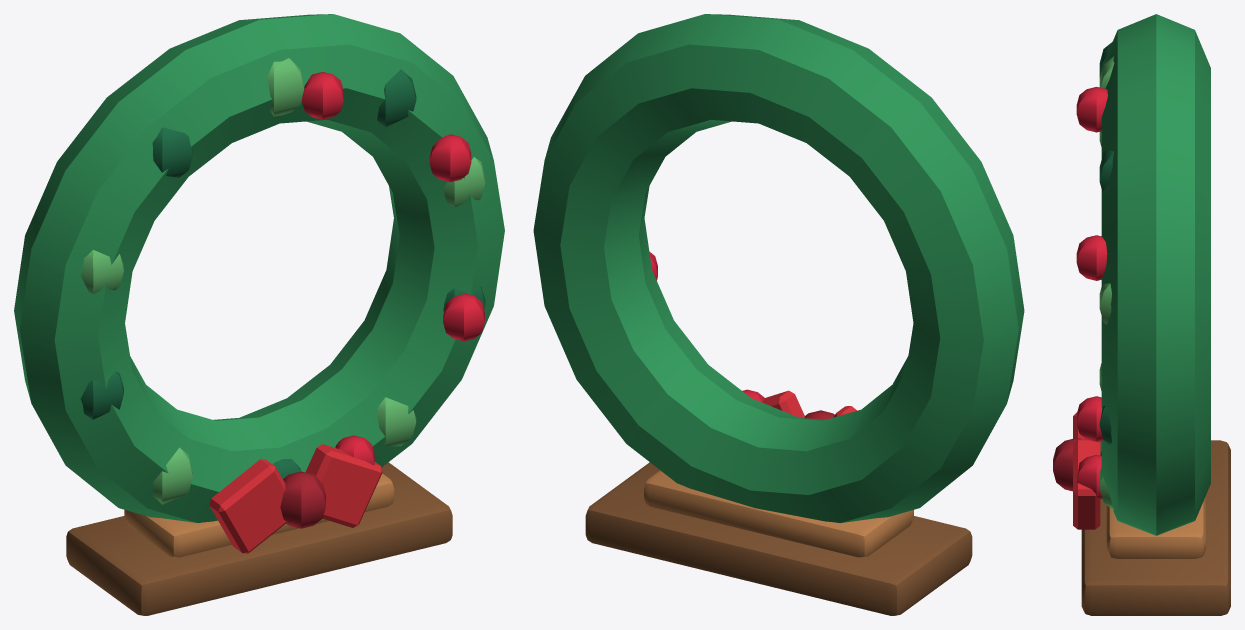
Rendered from vuena-prop-wreath.glb.
The picture shows the model from 3 angles, left to right: view 1: azimuth 30°, elevation 25°; view 2: azimuth 150°, elevation 25°; view 3: azimuth 270°, elevation 25°; orthographic projection. The views are drawn at different scales.
Parts seen in each view (by area): view 1: wreath; view 2: wreath; view 3: wreath.
Boxes of the visible parts, <box> form: wreath: <box>14,14,504,615</box>; wreath: <box>533,14,1024,615</box>; wreath: <box>1053,14,1230,615</box>.
Bounding box in the file's own units: 1.06 × 1.13 × 0.3576.
Materials: 1 (1 with a texture image).
